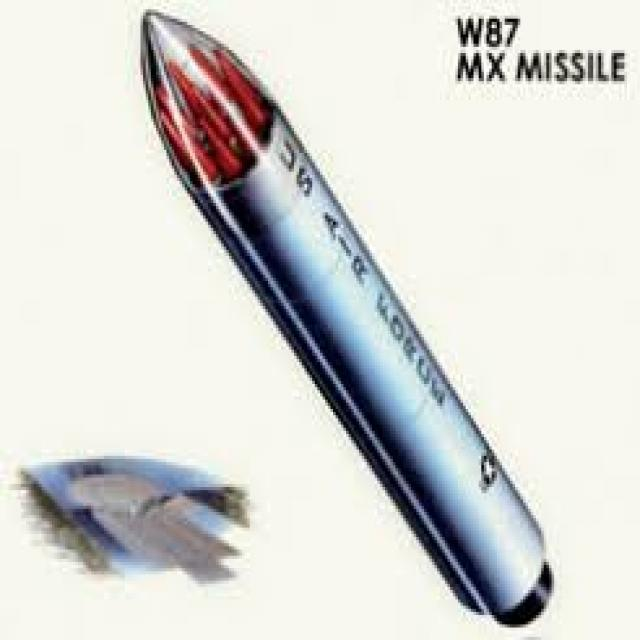Missile: (131, 4, 574, 619)
